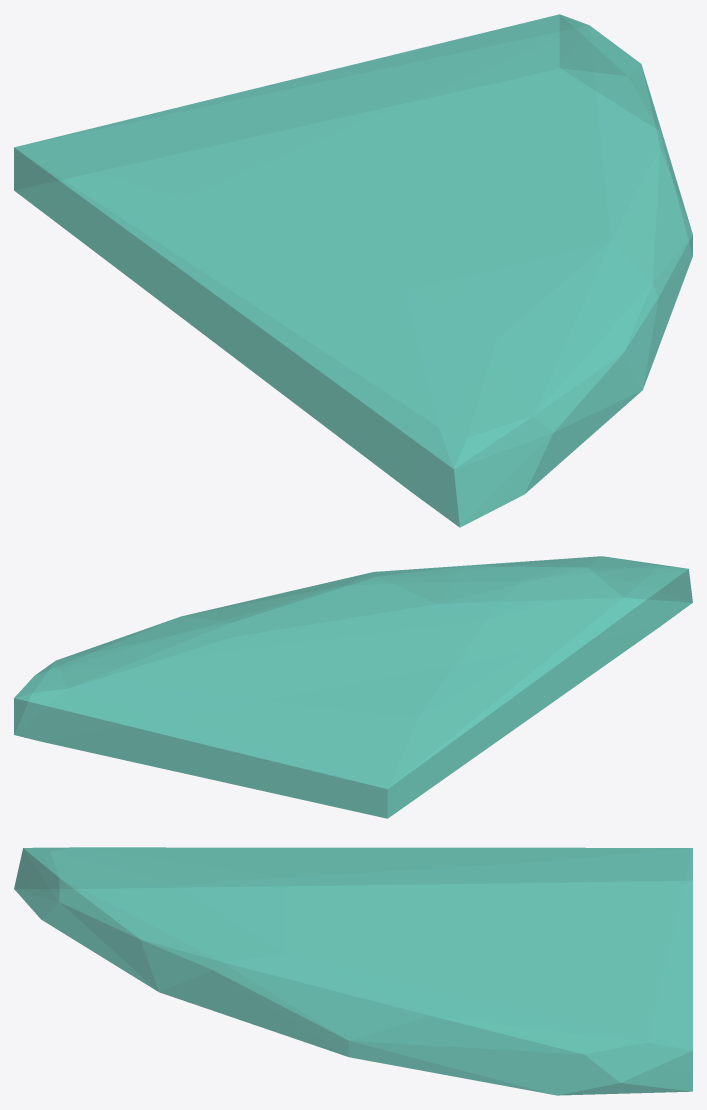
3 renders of one model, top to bottom at view 1: azimuth 30°, elevation 25°; view 2: azimuth 150°, elevation 25°; view 3: azimuth 270°, elevation 25°, orthographic. The views are drawn at different scales.
Visible parts, largest first — view 1: Shape_IndexedFaceSet.016_Shape_IndexedFaceSet.10121; view 2: Shape_IndexedFaceSet.016_Shape_IndexedFaceSet.10121; view 3: Shape_IndexedFaceSet.016_Shape_IndexedFaceSet.10121.
Boxes of the visible parts, x1,y1,x2,y2 form: Shape_IndexedFaceSet.016_Shape_IndexedFaceSet.10121: [14, 14, 692, 527]; Shape_IndexedFaceSet.016_Shape_IndexedFaceSet.10121: [14, 556, 692, 818]; Shape_IndexedFaceSet.016_Shape_IndexedFaceSet.10121: [14, 847, 692, 1095].
Size of the model in its own units: 0.0201 by 0.00256 by 0.0274.
